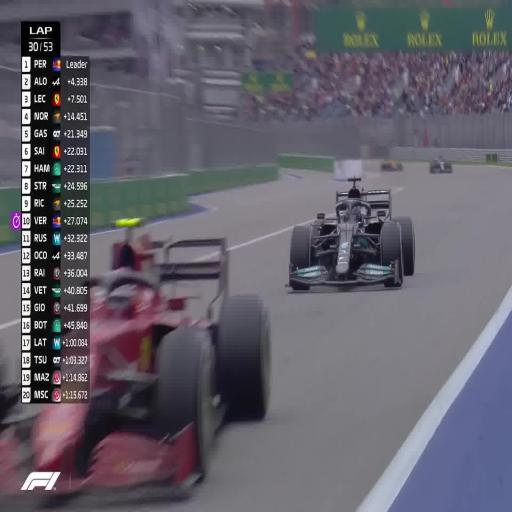f1_car: (0, 239, 270, 498), (288, 177, 415, 289), (429, 156, 452, 174), (61, 332, 73, 357), (381, 159, 403, 172), (130, 246, 143, 261), (61, 383, 66, 393), (119, 245, 126, 250), (65, 368, 74, 371), (36, 493, 41, 498), (21, 493, 26, 497), (74, 368, 80, 370), (34, 489, 38, 491), (146, 247, 150, 249), (25, 445, 26, 451), (126, 251, 129, 253), (135, 223, 138, 225), (31, 493, 33, 495), (5, 508, 7, 509), (2, 507, 3, 509), (63, 368, 64, 370), (9, 502, 10, 502), (115, 265, 118, 265), (118, 261, 118, 262), (139, 247, 139, 248), (148, 240, 148, 240)
